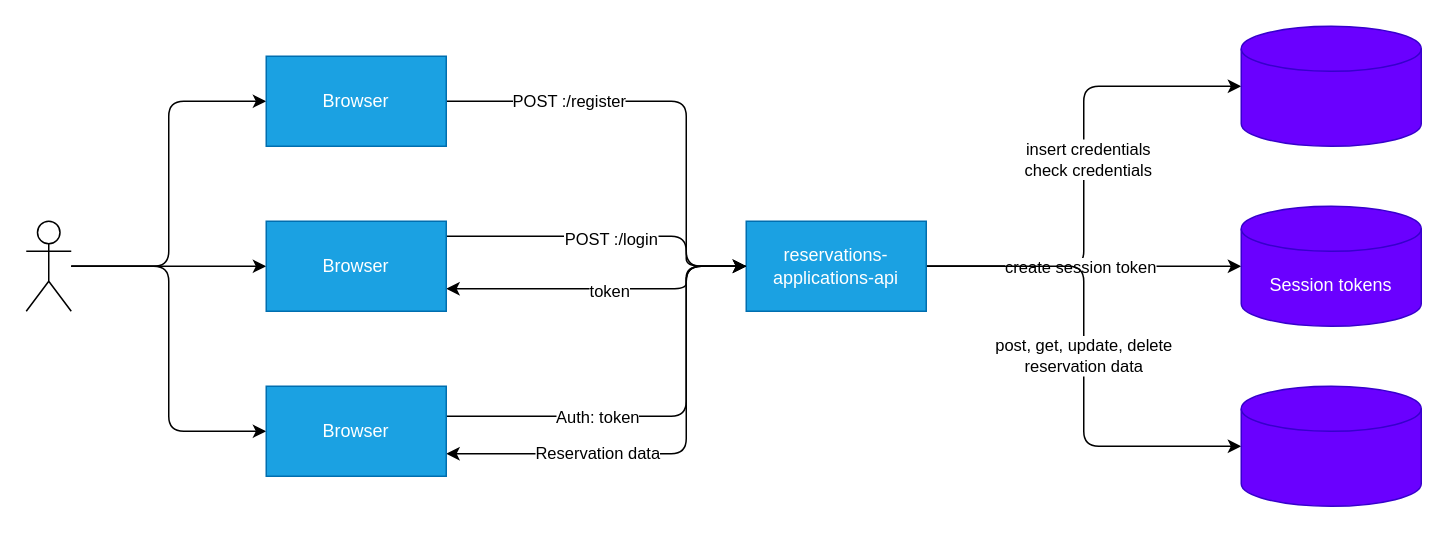
The diagram is 1448 pixels wide and 533 high, and some of its shapes have lost their labels. Here are the shapes that lost their labels. From the top down, the box of each, then its label:
(1240, 25, 1421, 146): User Credentials
(25, 220, 71, 311): User
(1240, 385, 1421, 506): Reservations
